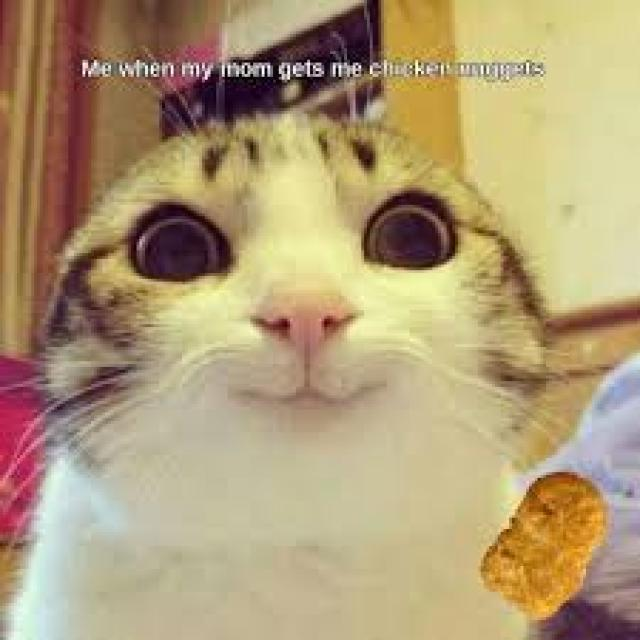cat: (3, 96, 640, 640)
